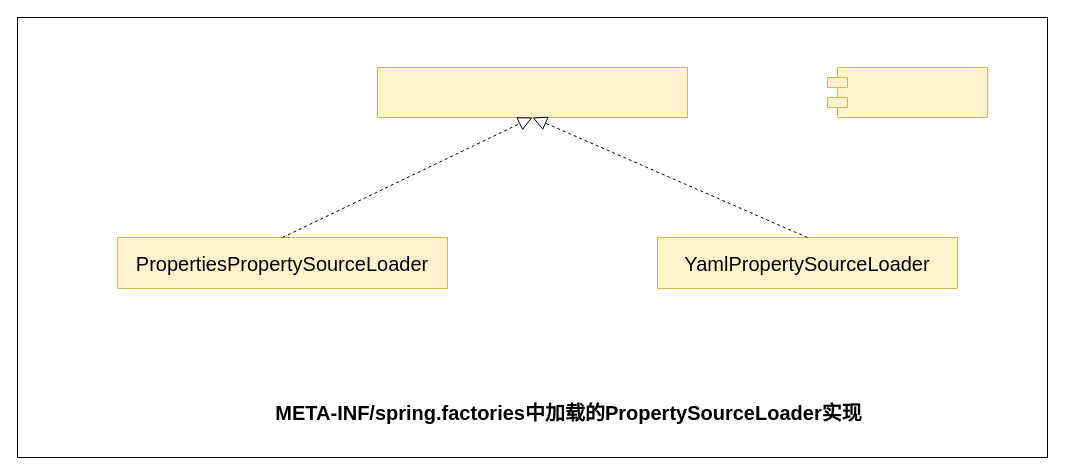
Some shapes in this 1065 by 475 pixel diagram are drawn without their labels. The centre of each missing label's shape, as x and y in pixels:
spring-boot: the point at 907,92
«interface» PropertySourceLoader: the point at 532,92
